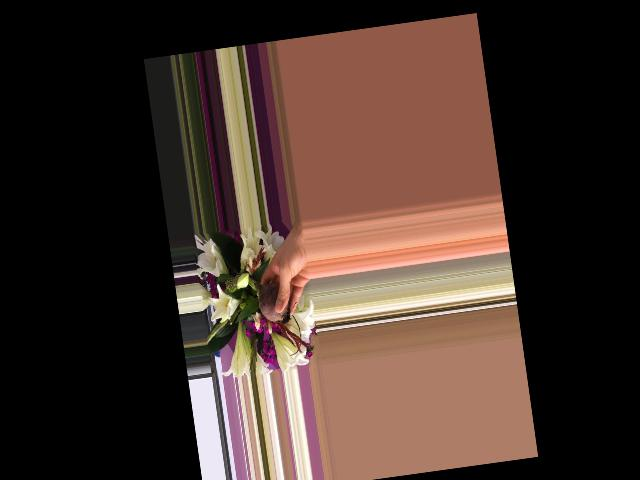beet: (248, 270, 292, 328)
